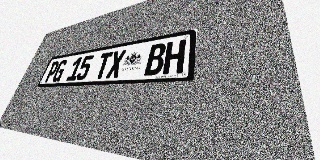1: (66, 57, 84, 81)
5: (75, 55, 94, 80)
B: (144, 42, 167, 76)
G: (51, 59, 68, 82)
H: (162, 39, 186, 75)
P: (43, 61, 60, 83)
T: (93, 52, 113, 79)
X: (105, 49, 126, 78)
